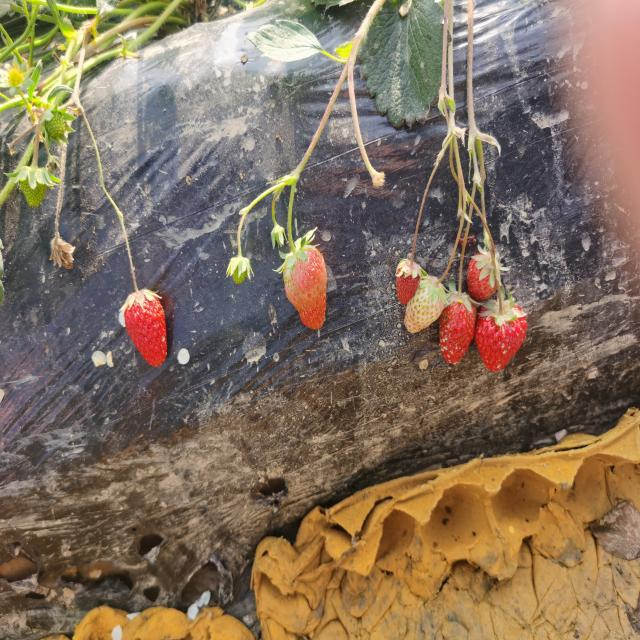stem: (287, 222, 298, 256), (496, 279, 504, 316), (131, 267, 139, 295), (410, 241, 416, 268), (457, 265, 462, 296)
strawberry: (474, 299, 527, 372), (284, 246, 327, 330), (124, 289, 167, 367), (439, 292, 477, 364), (467, 251, 496, 301), (396, 260, 421, 304)
